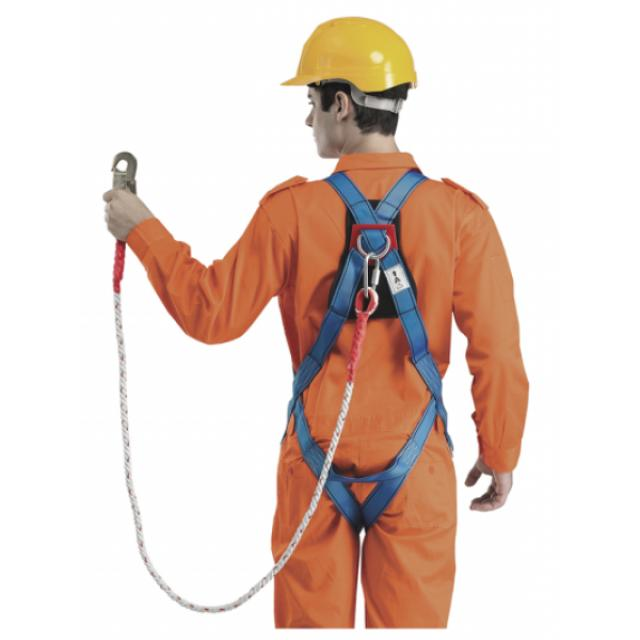Reflective-Jacket: (234, 158, 501, 493)
Safety-Helmet: (279, 13, 422, 104)
